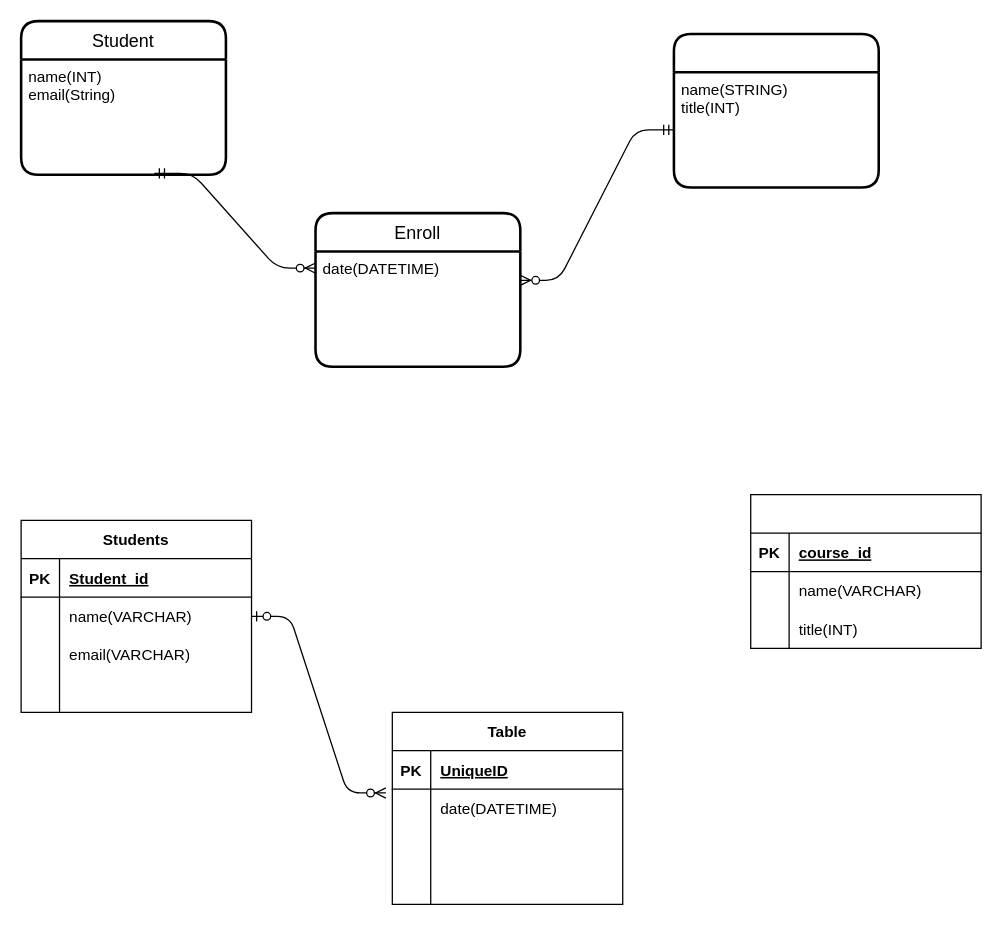
Image size: 1002x925. Some labels were removed from this diagram. Here are the shapes that lost their labels. From the top down, the box of each, then its label:
(672, 32, 879, 188): Course
(749, 493, 981, 648): Courses
